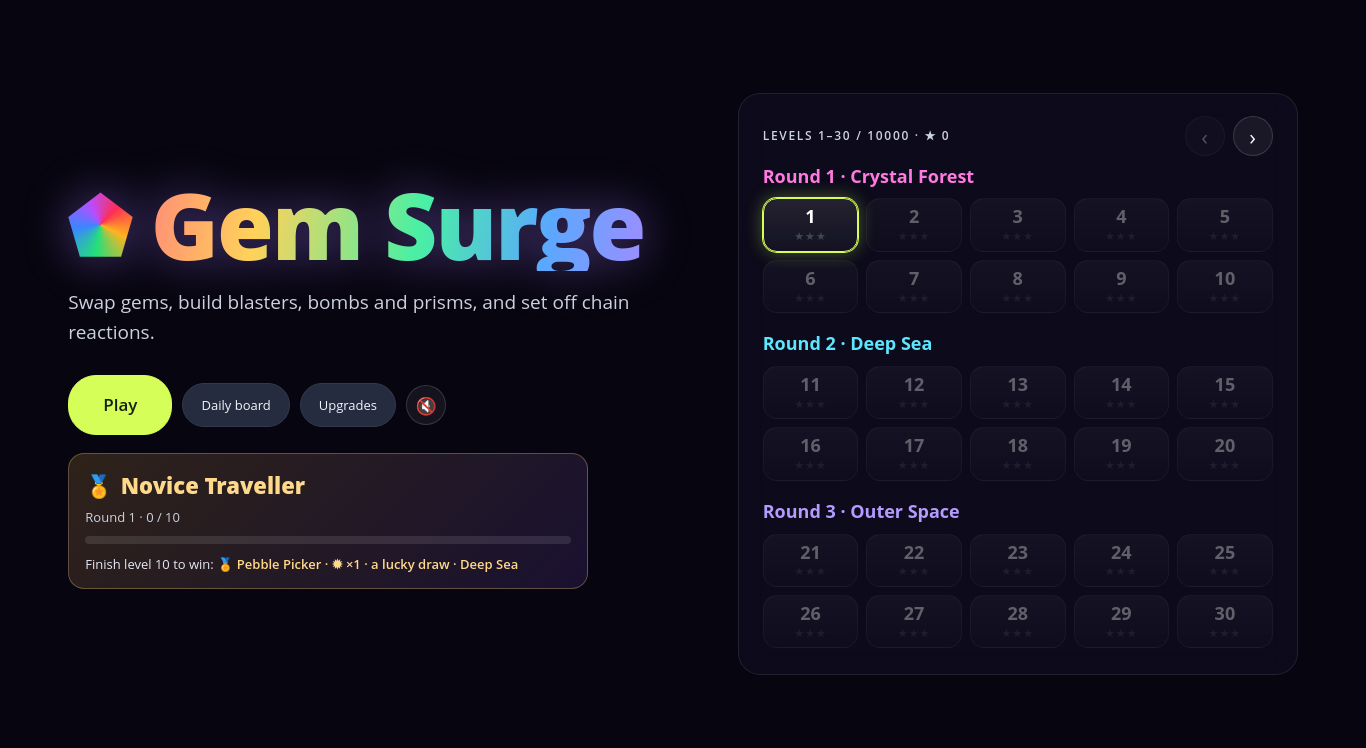
Scenario: the game draws no sign-in prompt of its own; dingn's box shows on a signed-out result
Later steps or results of the test are not shown.
What coordinates should you click on to do the following:
click the button "Upgrades"
I would click on:
 (348, 405)
Its box is top-left (300, 383), bottom-right (396, 427).
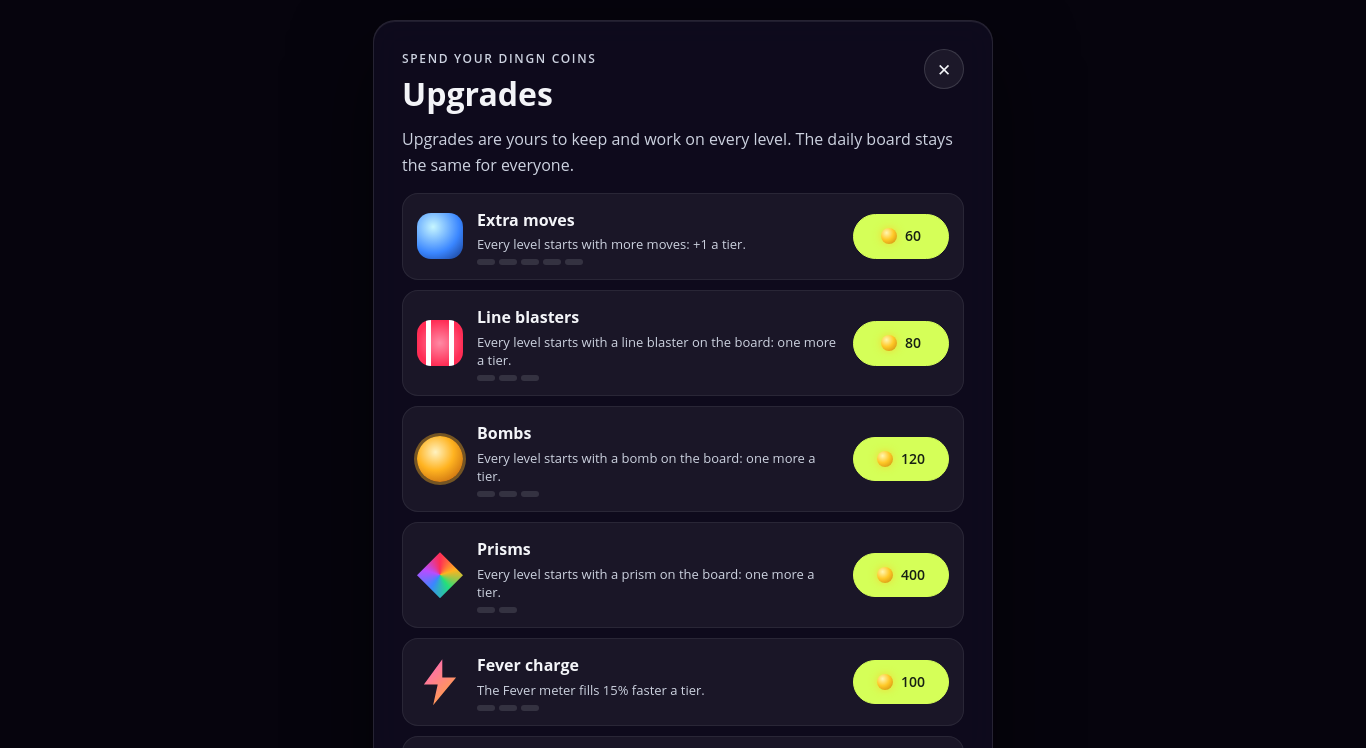
What coordinates should you click on to do the following:
click the button named "Close"
I would click on:
 (944, 69)
Its box is top-left (924, 49), bottom-right (964, 89).
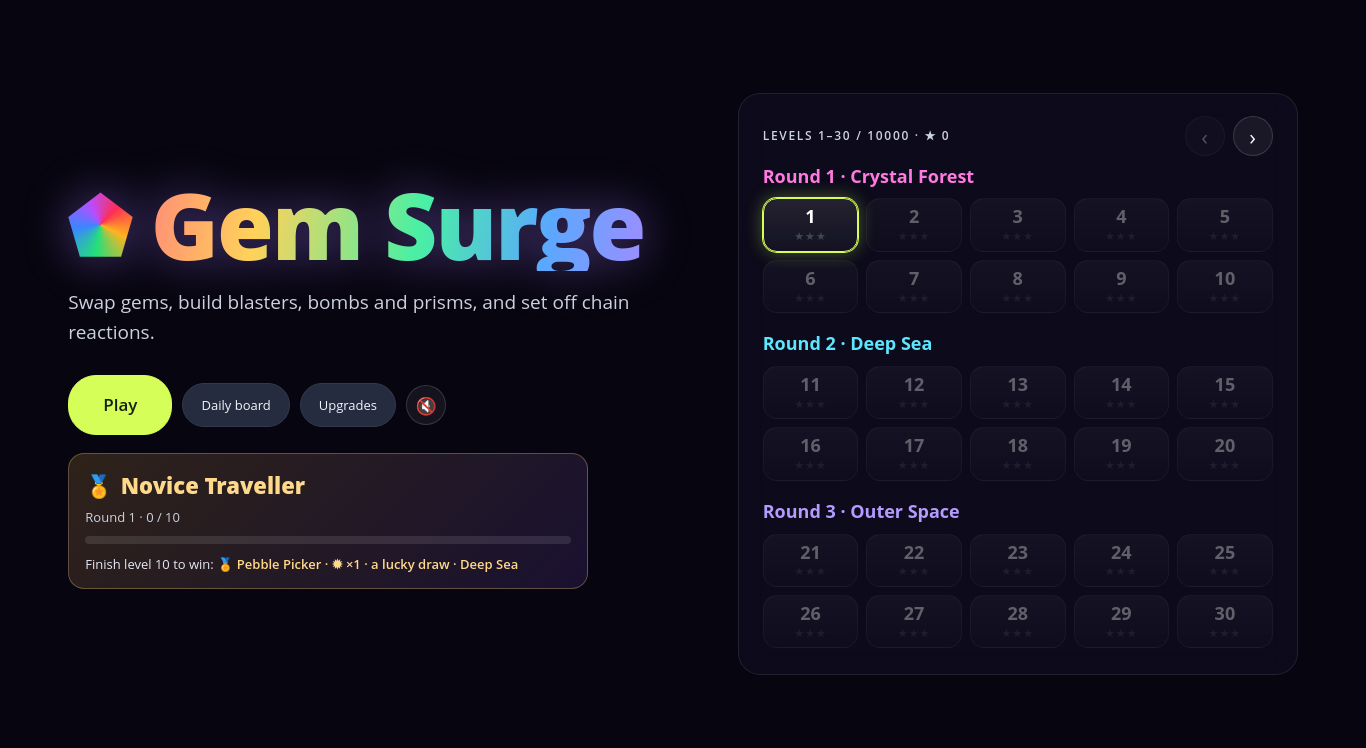
What coordinates should you click on to do the following:
click the button "Play"
I would click on:
 (120, 405)
Its box is top-left (68, 375), bottom-right (172, 435).
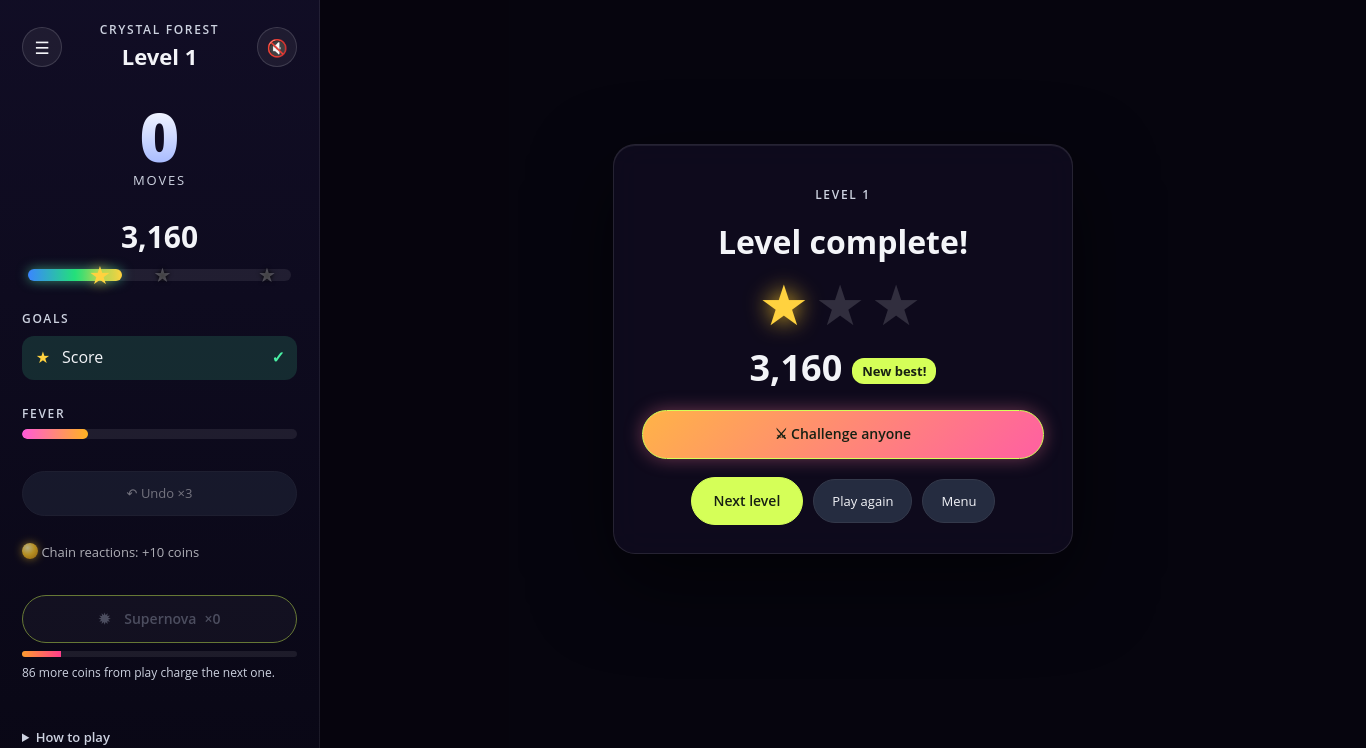
Check: the button "Play again" is shown
The box goes when the result card closes.
What coordinates should you click on to do the following:
click the button "Play again"
I would click on:
 (863, 501)
Its box is top-left (813, 479), bottom-right (912, 523).
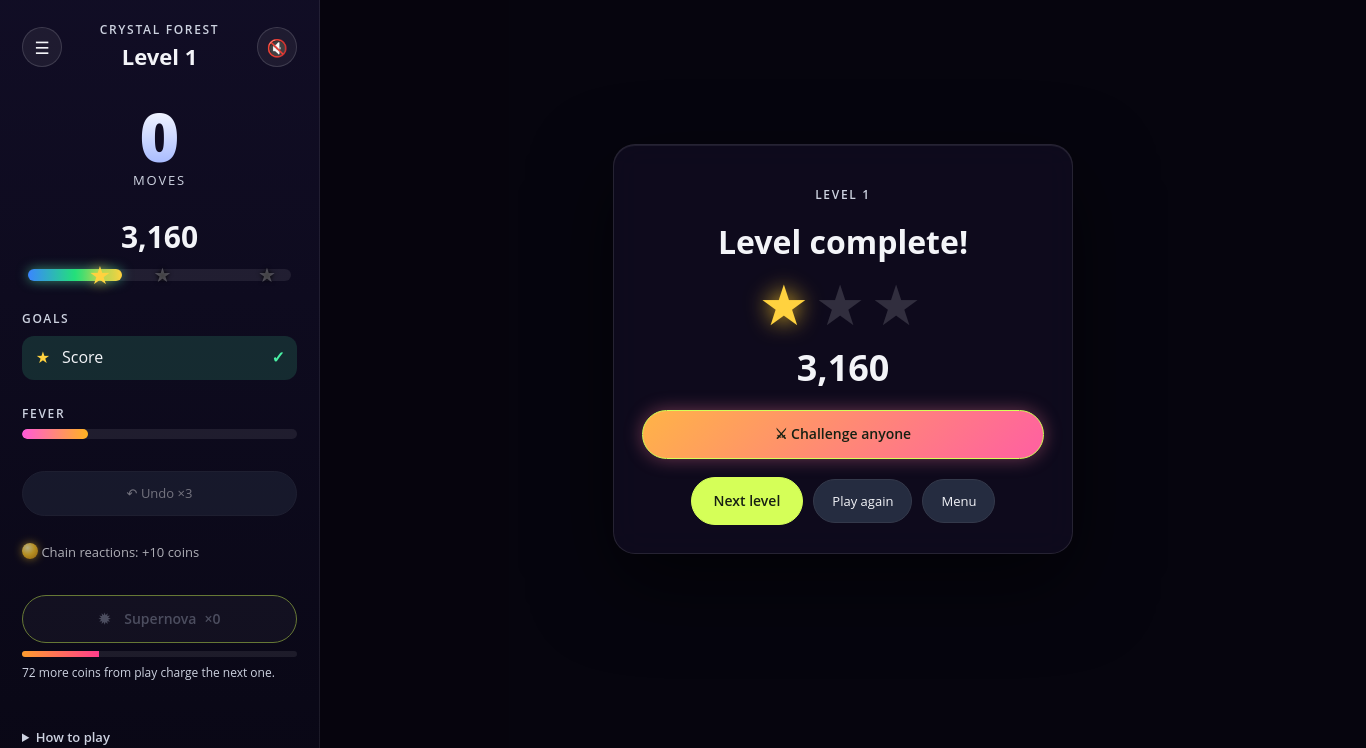
Check: the button "Play again" is shown, box top-left (813, 479), bottom-right (912, 523)
